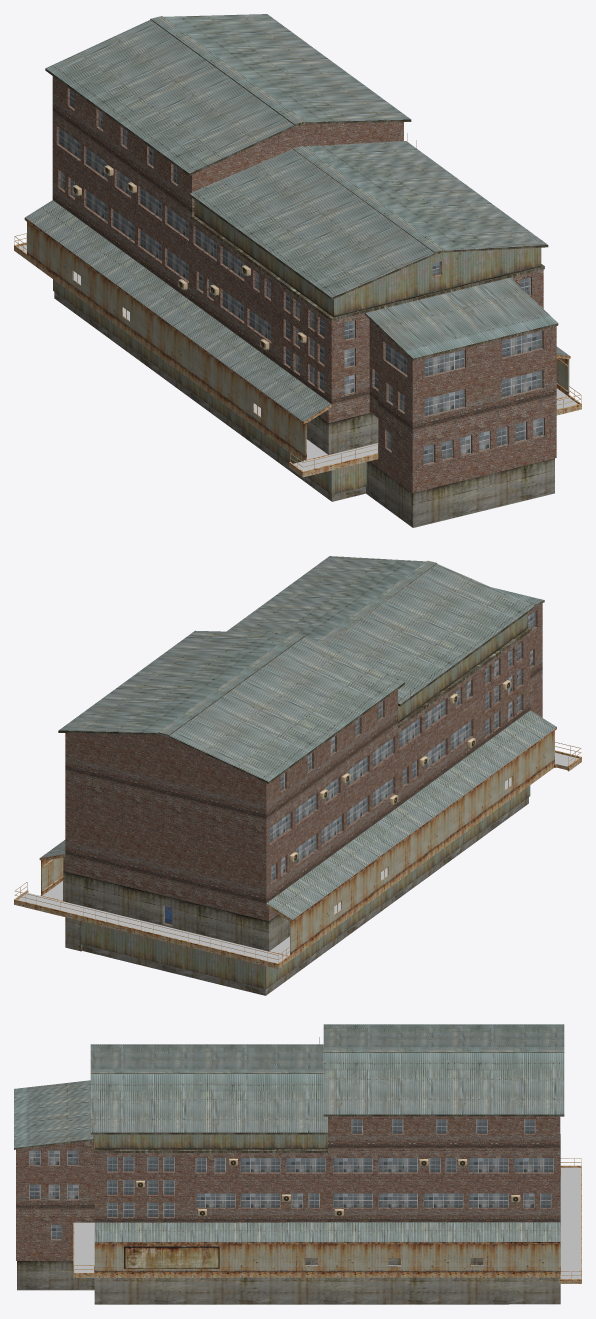
The model's file is building_1_lod1.fbx.
The picture shows the model from 3 angles, top to bottom: view 1: azimuth 30°, elevation 25°; view 2: azimuth 150°, elevation 25°; view 3: azimuth 270°, elevation 25°; orthographic projection. The views are drawn at different scales.
Parts seen in each view (by area): view 1: Mesh Object; view 2: Mesh Object; view 3: Mesh Object.
Part boxes in pixels (bbox=[...]): Mesh Object: bbox=[14, 14, 581, 527]; Mesh Object: bbox=[14, 556, 581, 995]; Mesh Object: bbox=[14, 1024, 581, 1304].
Size of the model in its own units: 27.08 by 22.24 by 54.05.
